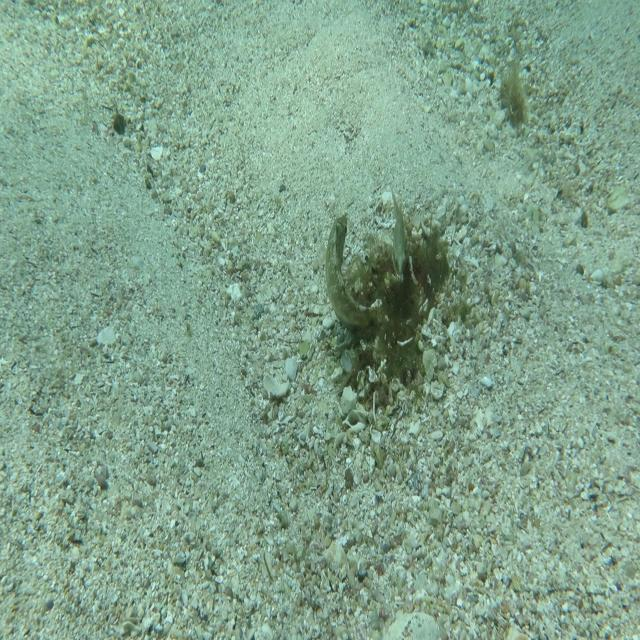BEND: (314, 210, 387, 333)
female: (388, 180, 408, 278)
nest: (316, 196, 454, 412)
